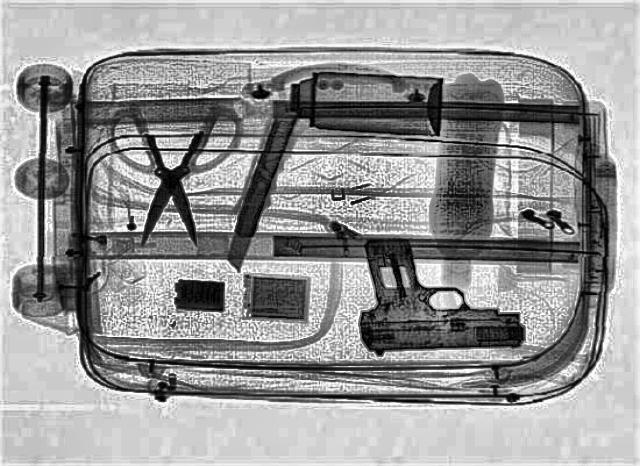Gun: (357, 235, 526, 358)
Scissors: (106, 104, 244, 256)
